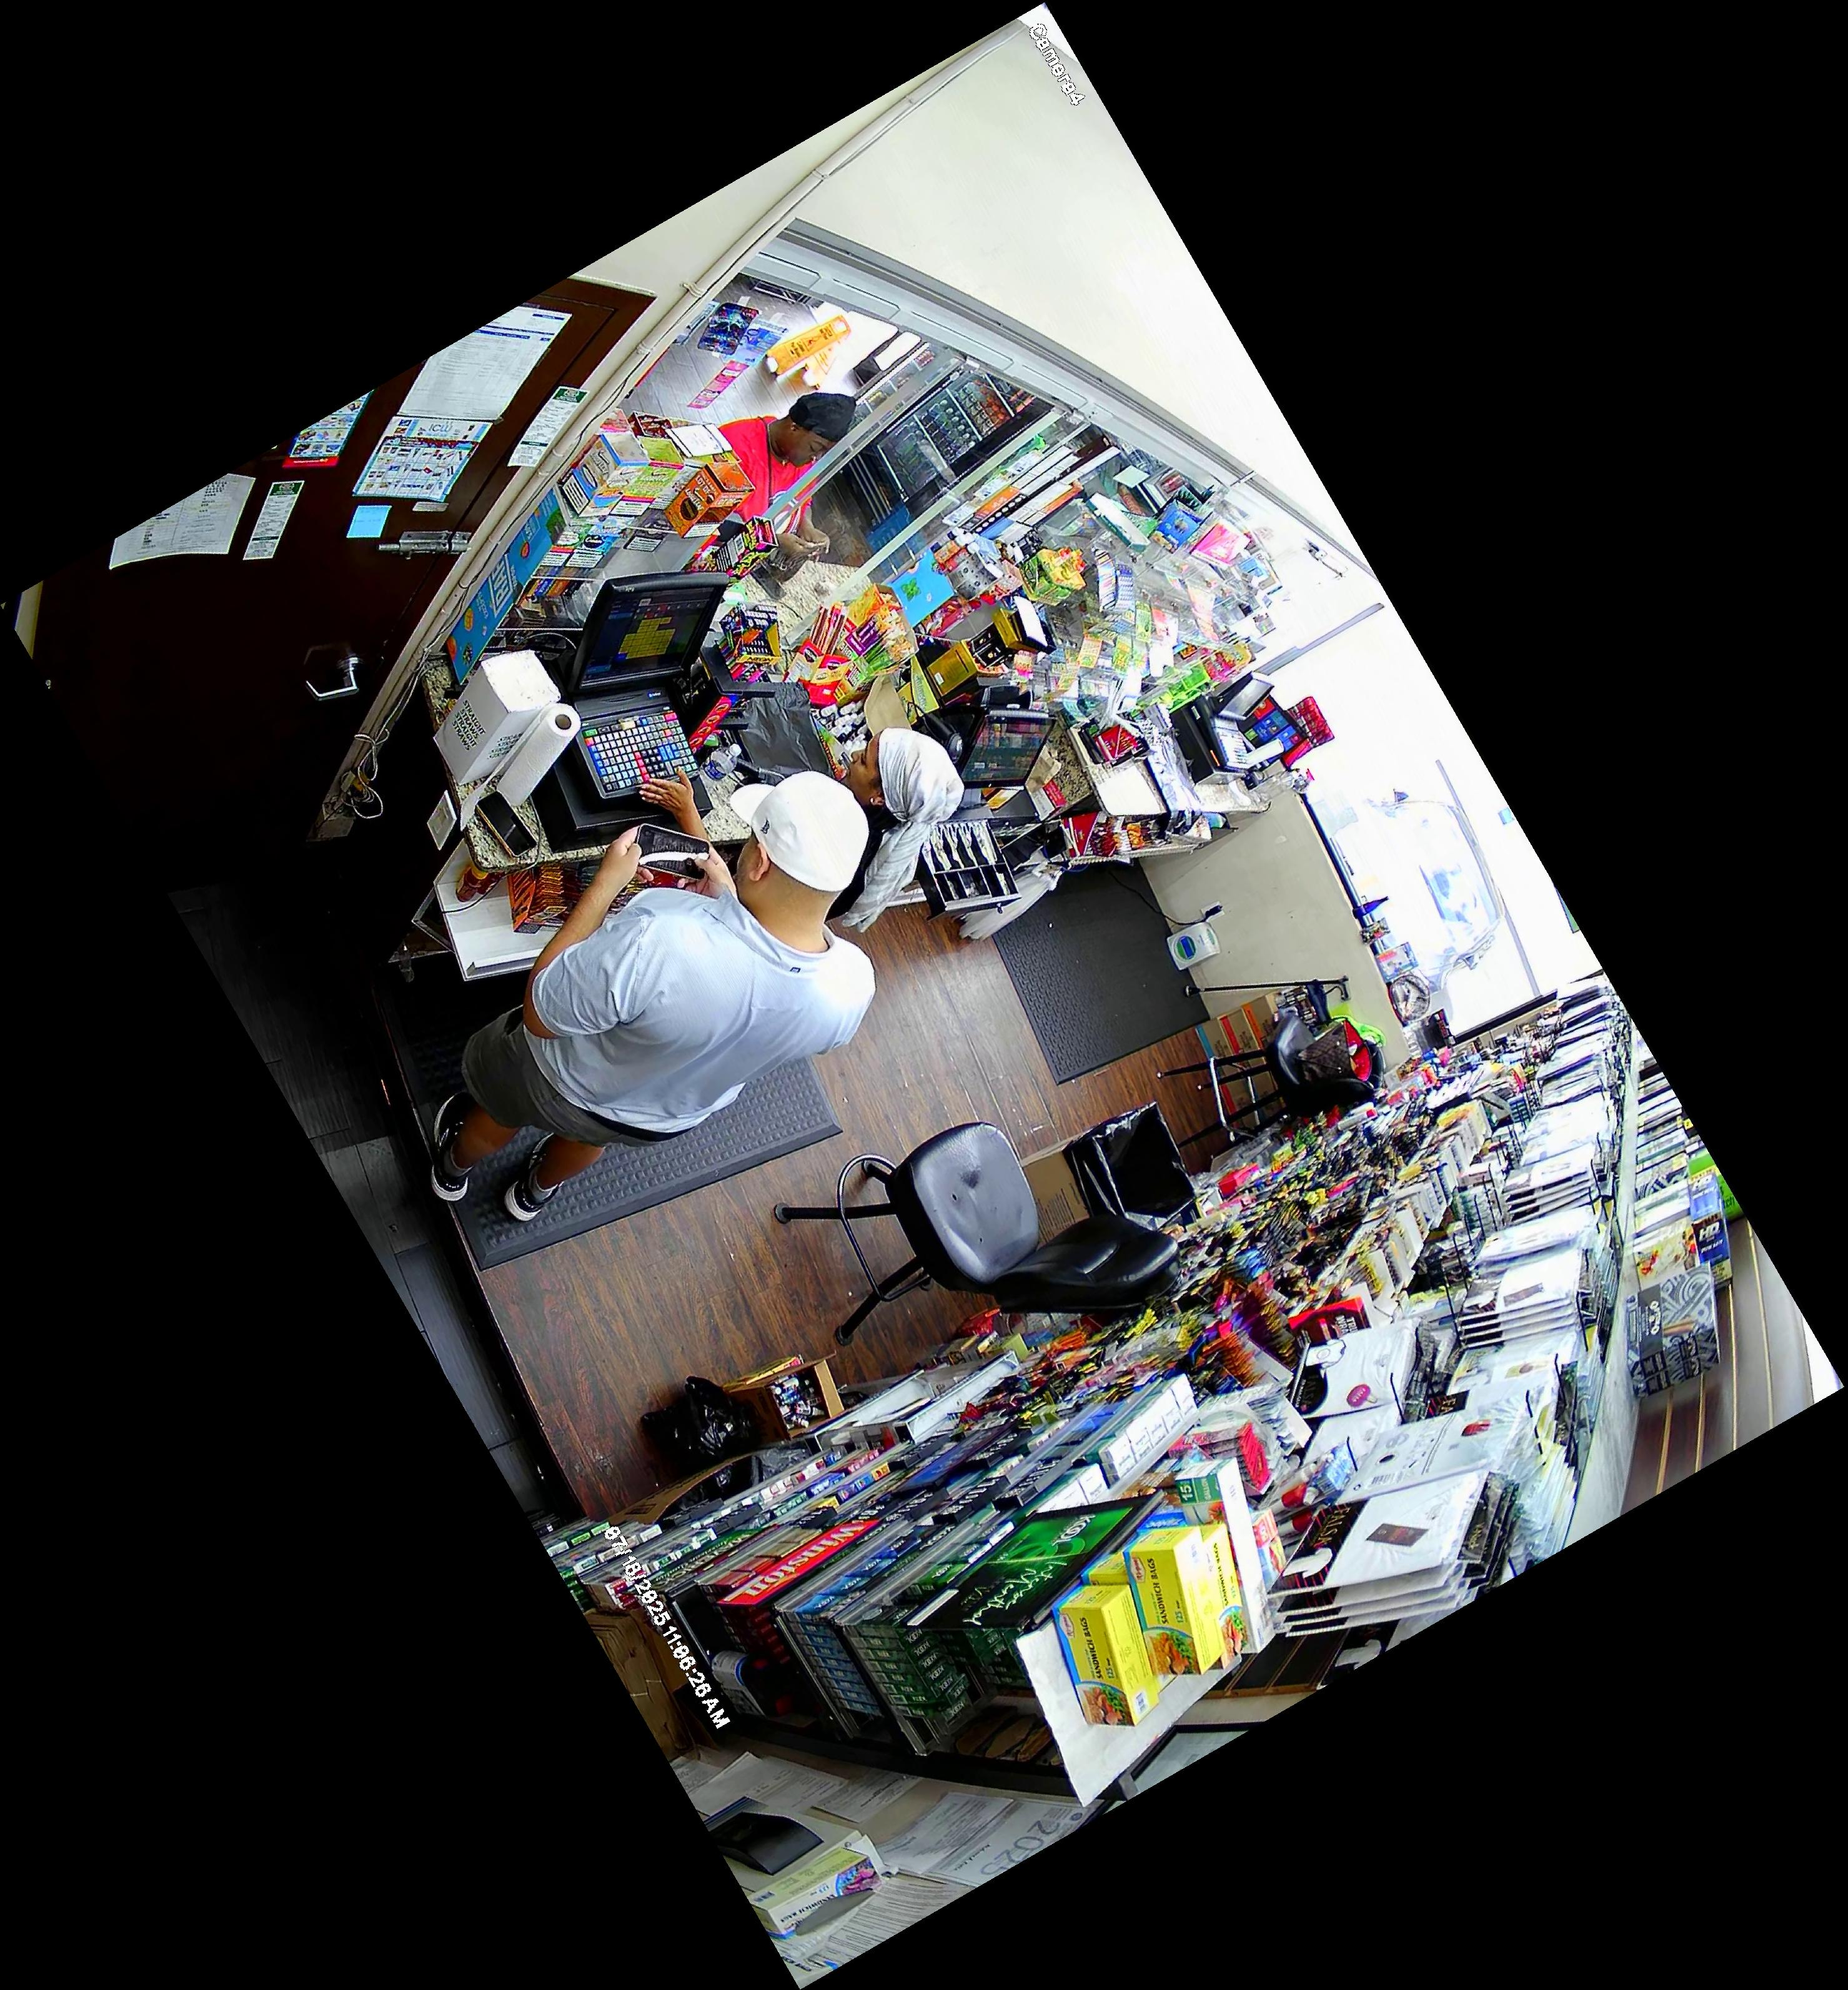phone: (622, 816, 719, 893)
